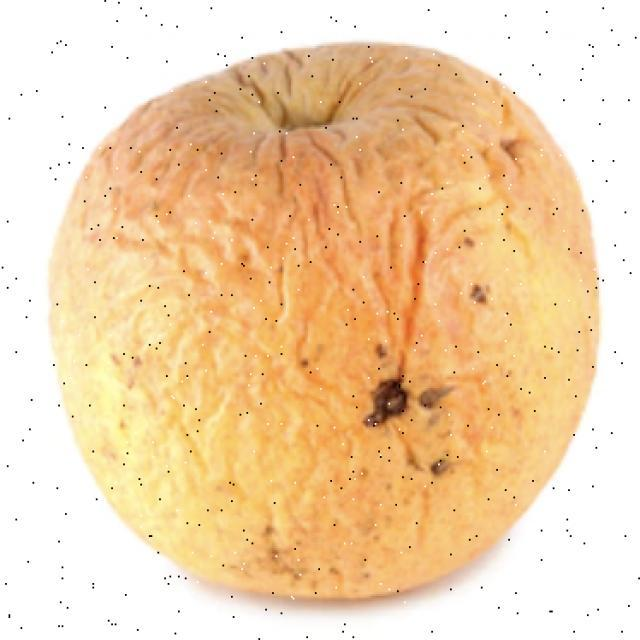Rotten: (77, 47, 615, 613)
